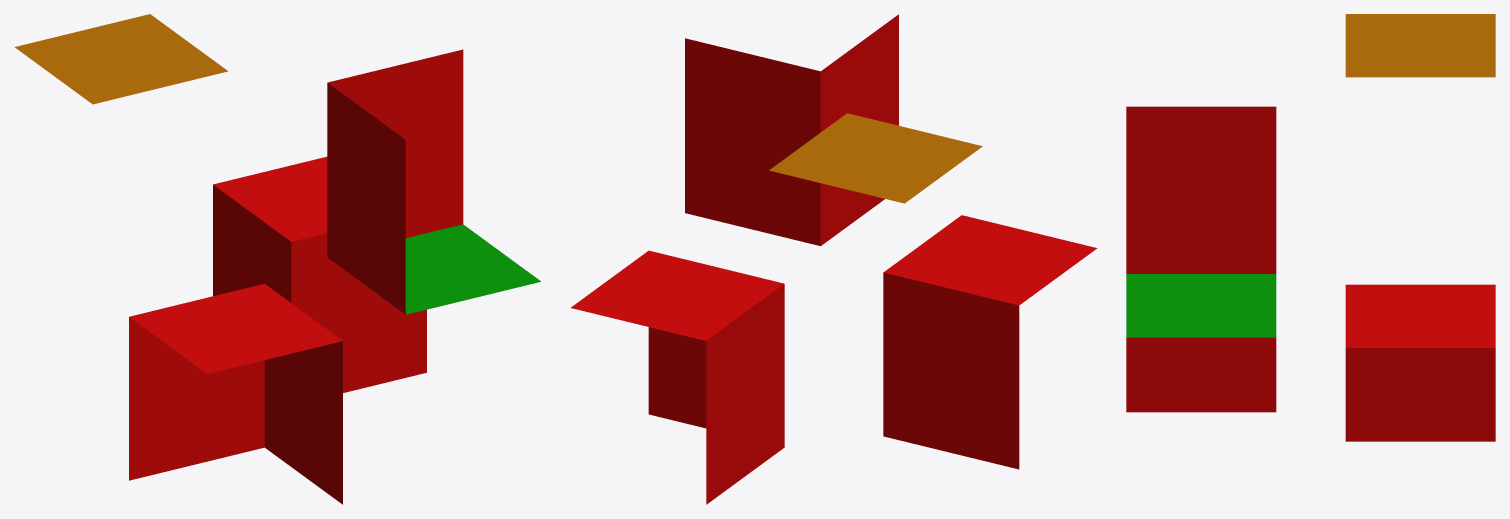
3 renders of one model, left to right at view 1: azimuth 30°, elevation 25°; view 2: azimuth 150°, elevation 25°; view 3: azimuth 270°, elevation 25°, orthographic. The views are drawn at different scales.
Visible parts, largest first — view 1: None_A_W_A_E_S_E_E_A_None; view 2: None_A_W_A_E_S_E_E_A_None; view 3: None_A_W_A_E_S_E_E_A_None.
Part boxes in pixels (bbox=[...]): None_A_W_A_E_S_E_E_A_None: bbox=[14, 14, 540, 504]; None_A_W_A_E_S_E_E_A_None: bbox=[571, 14, 1097, 504]; None_A_W_A_E_S_E_E_A_None: bbox=[1126, 14, 1495, 441].
Bounding box in the file's own units: 100 × 100 × 100.
